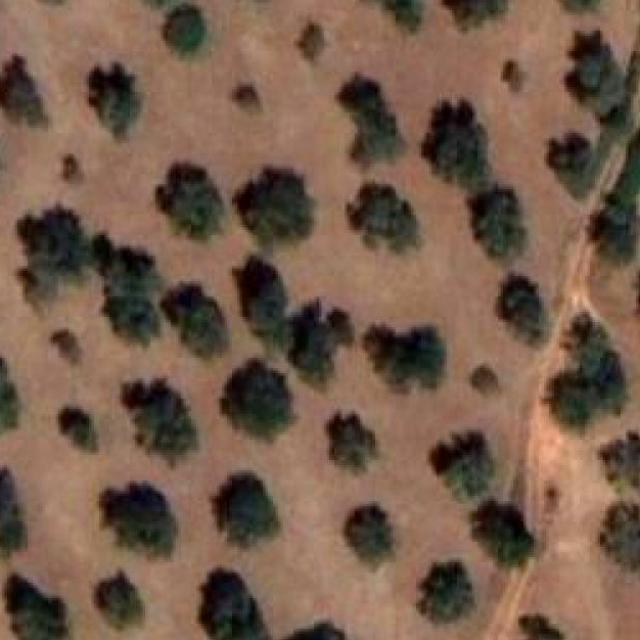Tree: (547, 312, 628, 426), (17, 204, 92, 304), (235, 168, 316, 250), (419, 95, 495, 181), (123, 378, 198, 465), (337, 74, 405, 168), (592, 131, 640, 264), (222, 361, 293, 441), (102, 484, 179, 557), (564, 31, 625, 118), (155, 164, 222, 241), (363, 327, 446, 389), (160, 284, 228, 358), (212, 473, 279, 548), (232, 255, 286, 348), (199, 572, 270, 640), (348, 185, 419, 251), (467, 184, 527, 259), (429, 432, 494, 501), (5, 574, 69, 640), (470, 504, 536, 567), (92, 235, 160, 293), (288, 300, 334, 384), (89, 64, 141, 138), (498, 273, 548, 345), (0, 56, 49, 126), (420, 560, 474, 623), (344, 504, 394, 567), (547, 133, 594, 199), (94, 570, 143, 630), (102, 294, 160, 344), (327, 412, 377, 470), (600, 504, 640, 571), (0, 468, 27, 557), (164, 5, 208, 56), (600, 432, 640, 488), (355, 0, 424, 32), (444, 0, 508, 30), (48, 328, 90, 372), (61, 407, 97, 451), (0, 354, 19, 432), (321, 306, 356, 344), (281, 621, 346, 640), (297, 23, 326, 62), (521, 618, 565, 640), (470, 367, 501, 397), (501, 59, 525, 92), (232, 85, 257, 113), (63, 153, 85, 182), (551, 0, 602, 12)
